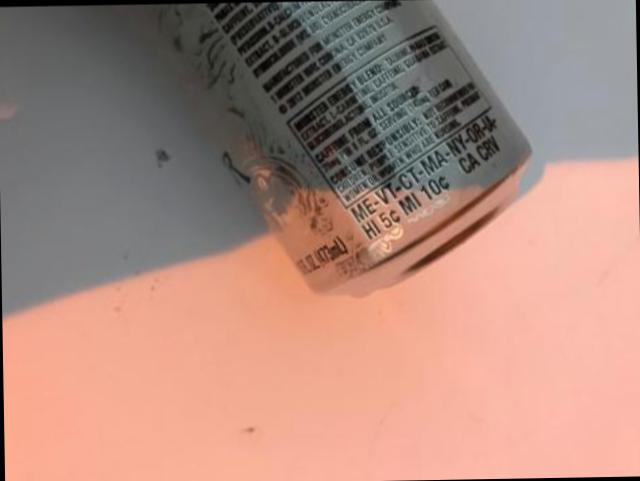metal: (160, 0, 531, 296)
